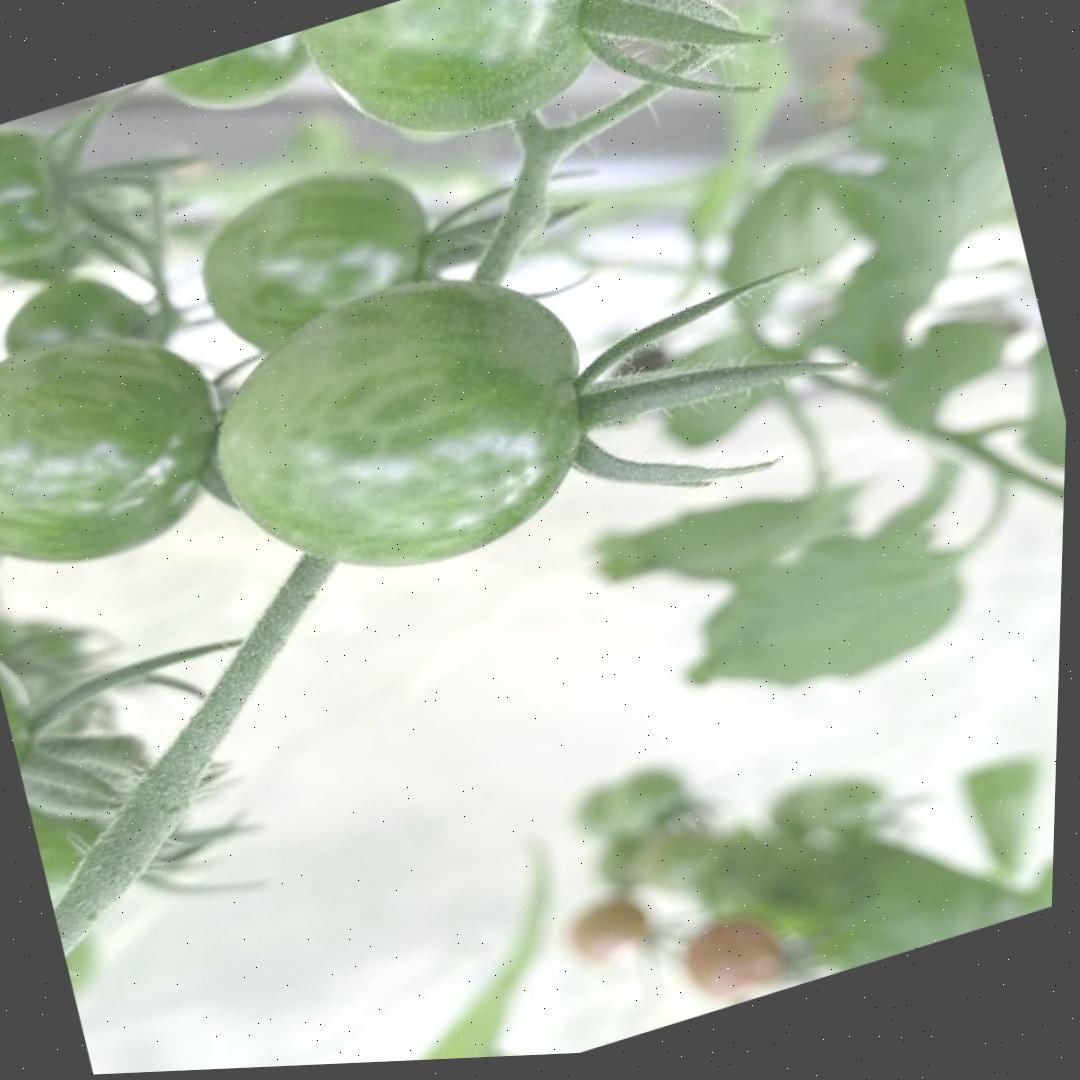mentah: (182, 237, 628, 622), (0, 291, 256, 599), (294, 0, 656, 179)
